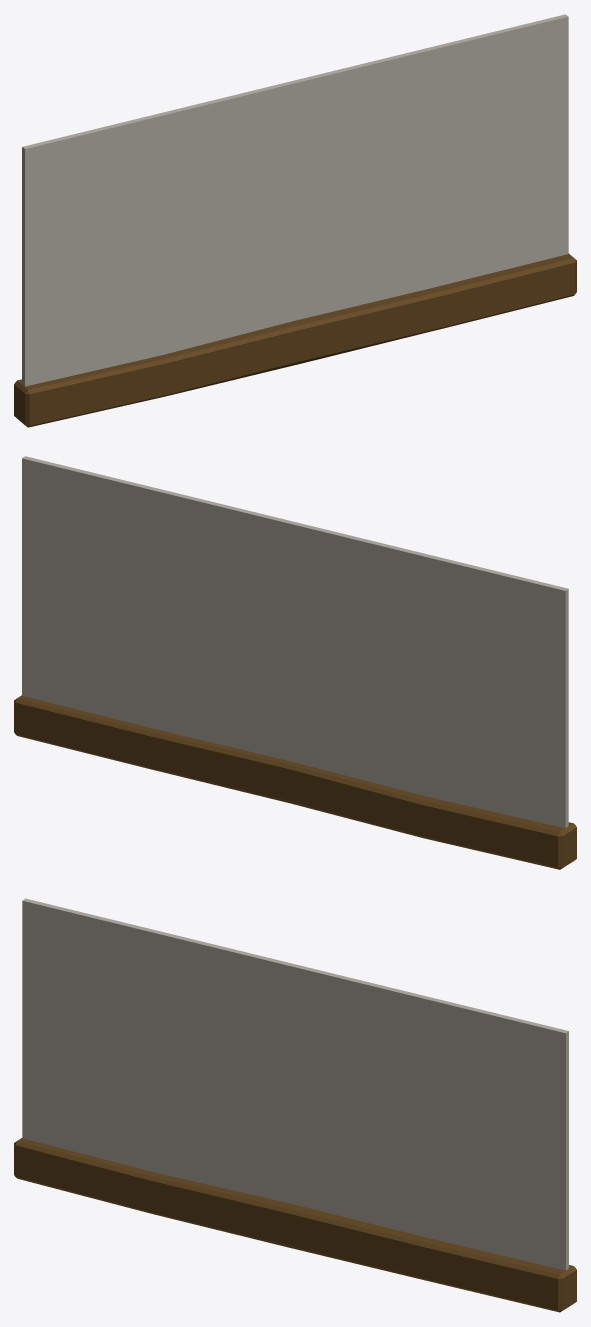
File: Wall_11.fbx
3 renders of one model, top to bottom at view 1: azimuth 30°, elevation 25°; view 2: azimuth 150°, elevation 25°; view 3: azimuth 330°, elevation 25°, orthographic.
Parts seen in each view (by area): view 1: Wall_11; view 2: Wall_11; view 3: Wall_11.
Boxes of the visible parts, bbox=[...] form: Wall_11: bbox=[14, 14, 576, 427]; Wall_11: bbox=[14, 456, 576, 869]; Wall_11: bbox=[14, 898, 576, 1312].
Bounding box in the file's own units: 5.84 × 2.8 × 0.3229.
